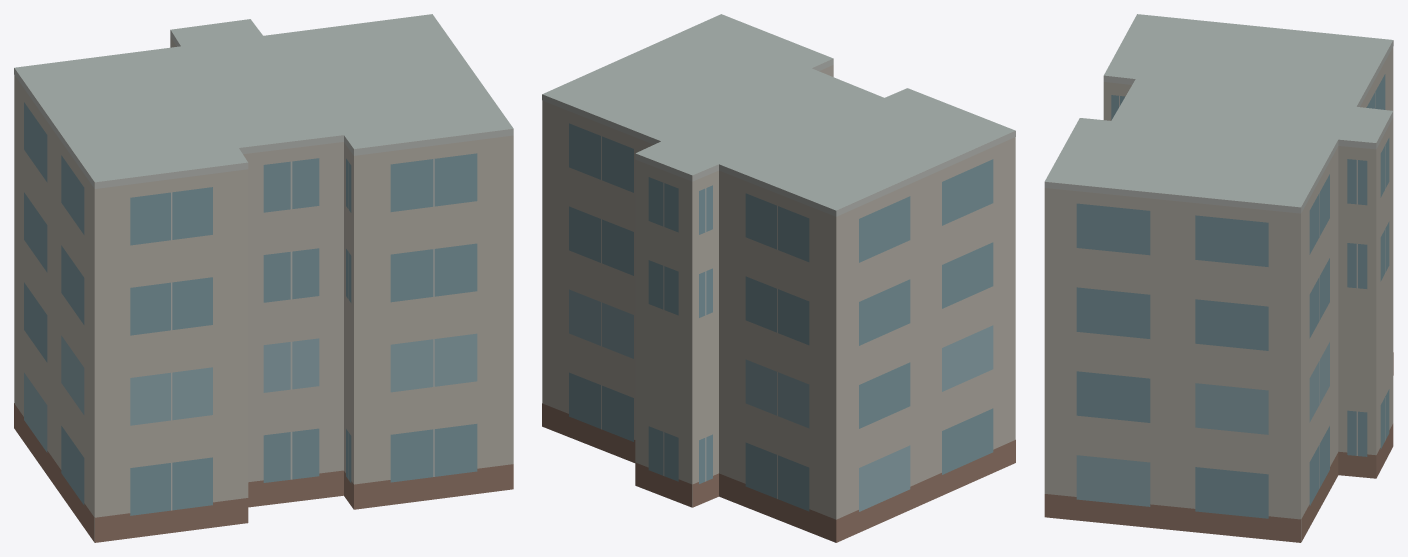
File: survey-upis-32974885.glb
The picture shows the model from 3 angles, left to right: view 1: azimuth 30°, elevation 25°; view 2: azimuth 150°, elevation 25°; view 3: azimuth 270°, elevation 25°; orthographic projection. The views are drawn at different scales.
Parts seen in each view (by area): view 1: survey-upis-32974885.tmp; view 2: survey-upis-32974885.tmp; view 3: survey-upis-32974885.tmp.
Part boxes in pixels (x1,y1,x2,y2): survey-upis-32974885.tmp: (14,14,513,542); survey-upis-32974885.tmp: (542,14,1015,542); survey-upis-32974885.tmp: (1044,14,1393,542).
Bounding box in the file's own units: 16.14 × 13.05 × 12.31.
